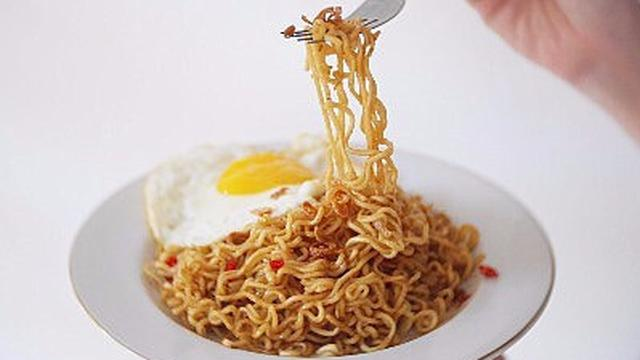Mie: (180, 150, 501, 360)
